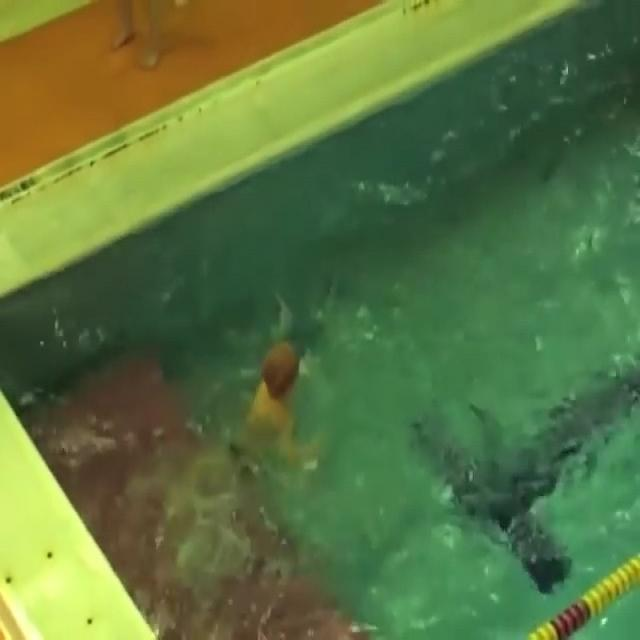drowning: (211, 315, 327, 485)
